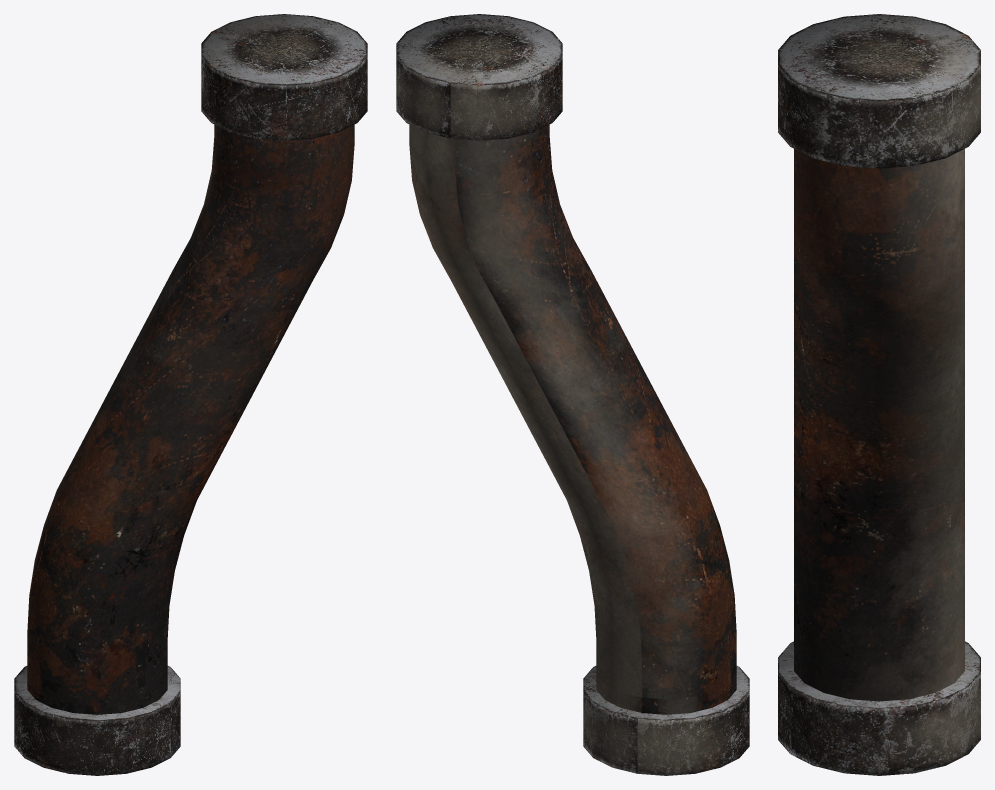
File: SM_PipeTransition.FBX
The picture shows the model from 3 angles, left to right: view 1: azimuth 30°, elevation 25°; view 2: azimuth 150°, elevation 25°; view 3: azimuth 270°, elevation 25°; orthographic projection. The views are drawn at different scales.
Parts seen in each view (by area): view 1: SM_PipeTransition; view 2: SM_PipeTransition; view 3: SM_PipeTransition.
Part boxes in pixels (x1,y1,x2,y2): SM_PipeTransition: (14, 14, 367, 775); SM_PipeTransition: (396, 14, 749, 775); SM_PipeTransition: (778, 14, 980, 775).
Bounding box in the file's own units: 54.05 × 23.37 × 100.
